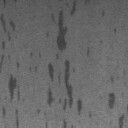red iron: (0, 0, 92, 128), (108, 93, 115, 109), (118, 114, 125, 128), (86, 46, 90, 58), (110, 76, 114, 83), (102, 10, 105, 18), (114, 28, 117, 34), (46, 122, 48, 128)
